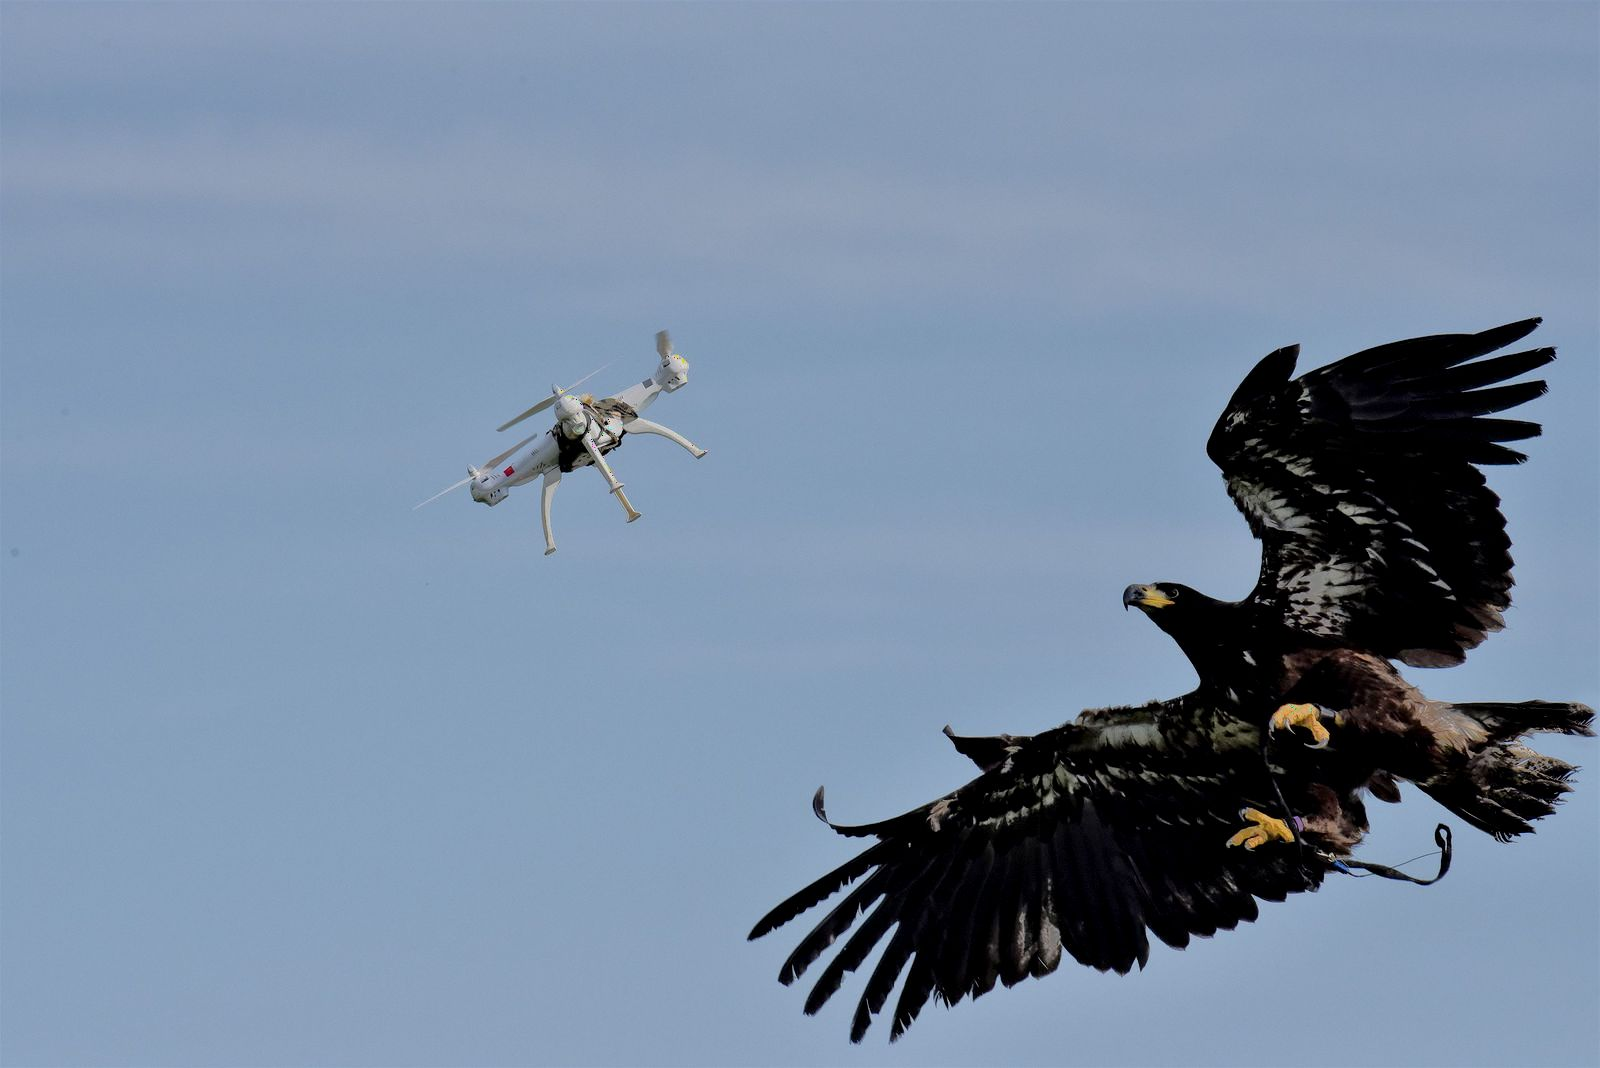Bird: (740, 300, 1596, 1060)
Drone: (410, 308, 710, 571)
